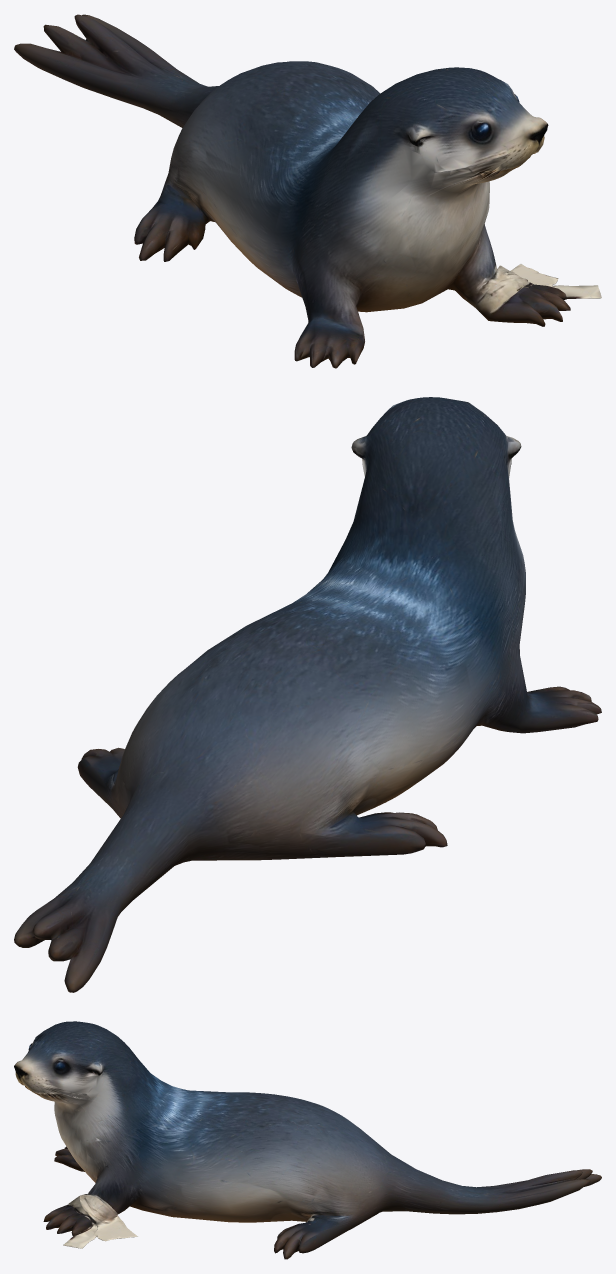
Rendered from tidepuck_hy3d.glb.
3 views of the same model, one above another, from view 1: azimuth 30°, elevation 25°; view 2: azimuth 150°, elevation 25°; view 3: azimuth 270°, elevation 25° (orthographic). The views are drawn at different scales.
Visible parts, largest first — view 1: node_0; view 2: node_0; view 3: node_0.
Part boxes in pixels (x1,y1,x2,y2): node_0: (14, 14, 601, 368); node_0: (14, 397, 601, 992); node_0: (14, 1021, 601, 1259).
Size of the model in its own units: 0.5089 by 0.372 by 1.14.
1 material, 1 textured.
